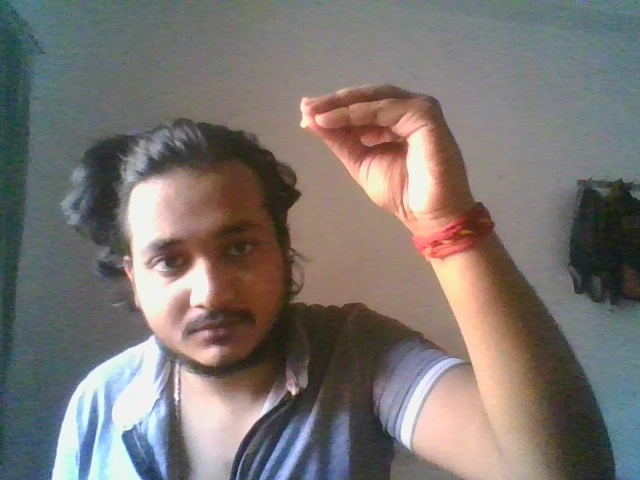Mouth: (299, 82, 464, 214)
